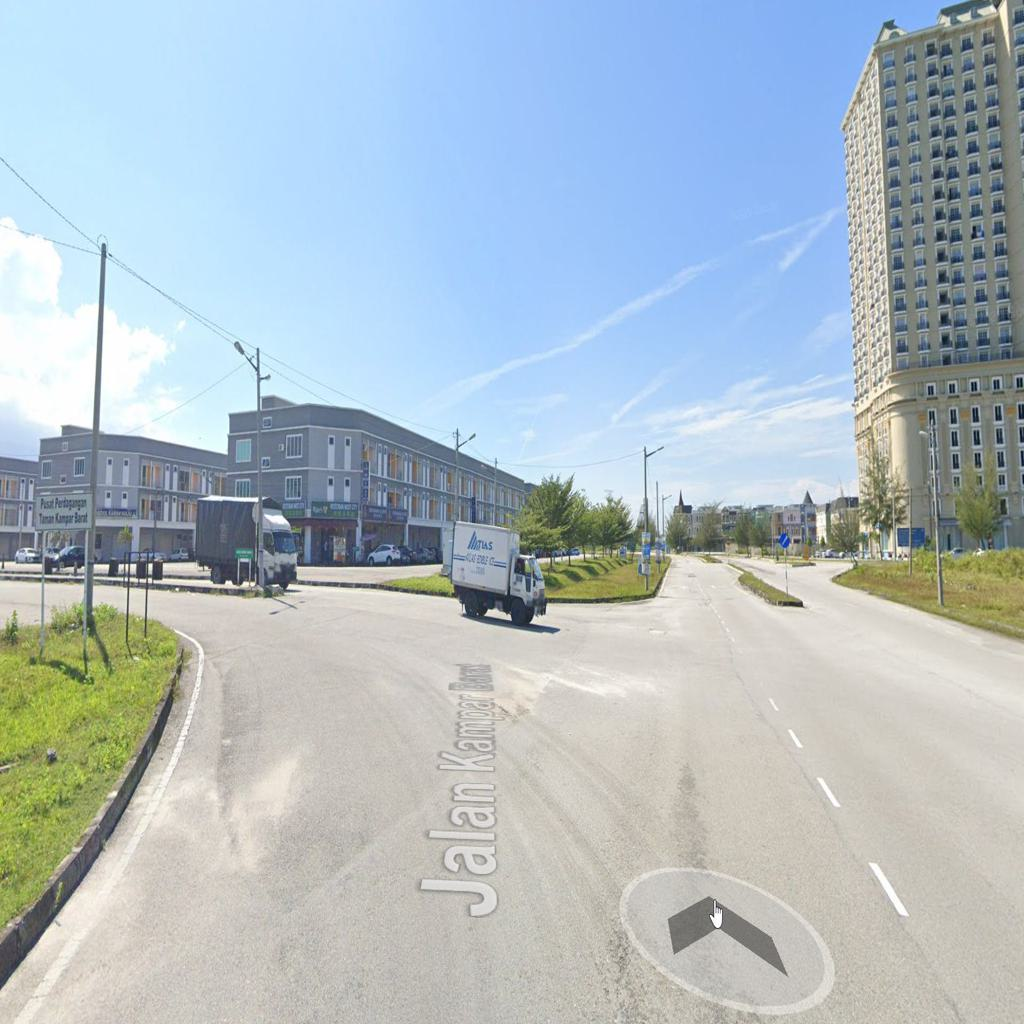Junction: (88, 547, 621, 886)
